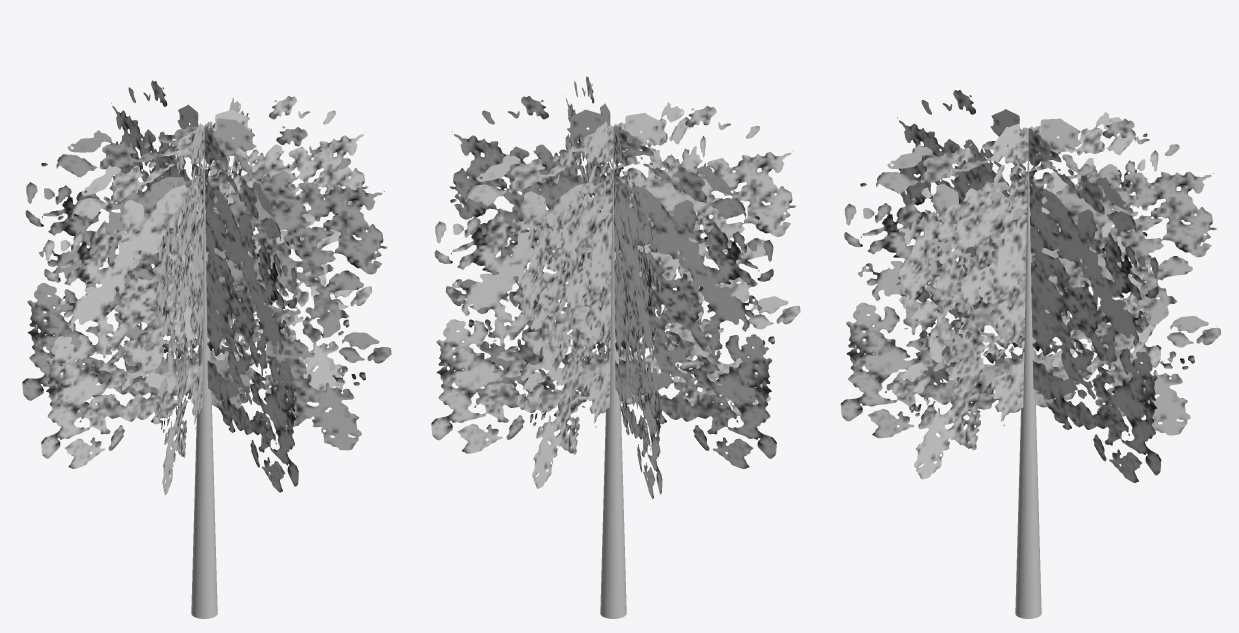
File: whiteTree.fbx
3 views of the same model, side by side, from view 1: azimuth 30°, elevation 25°; view 2: azimuth 150°, elevation 25°; view 3: azimuth 270°, elevation 25° (orthographic).
Parts seen in each view (by area): view 1: treeLeaves.002, treeLeaves.001, treeLeaves, treeLeaves.003, Cone; view 2: treeLeaves.003, treeLeaves.001, treeLeaves, treeLeaves.002, Cone; view 3: treeLeaves, treeLeaves.003, treeLeaves.002, Cone.
Boxes of the visible parts, bbox=[...] form: treeLeaves.002: bbox=[22, 118, 391, 450]; treeLeaves.001: bbox=[41, 96, 372, 468]; treeLeaves: bbox=[107, 80, 298, 492]; treeLeaves.003: bbox=[154, 97, 252, 494]; Cone: bbox=[191, 137, 217, 618]; treeLeaves.003: bbox=[431, 105, 800, 453]; treeLeaves.001: bbox=[445, 96, 776, 468]; treeLeaves: bbox=[516, 102, 705, 488]; treeLeaves.002: bbox=[564, 76, 662, 498]; Cone: bbox=[600, 137, 626, 618]; treeLeaves: bbox=[840, 118, 1221, 438]; treeLeaves.003: bbox=[897, 90, 1161, 482]; treeLeaves.002: bbox=[892, 112, 1161, 479]; Cone: bbox=[1015, 139, 1041, 618].
Size of the model in its own units: 310 by 451 by 310.
